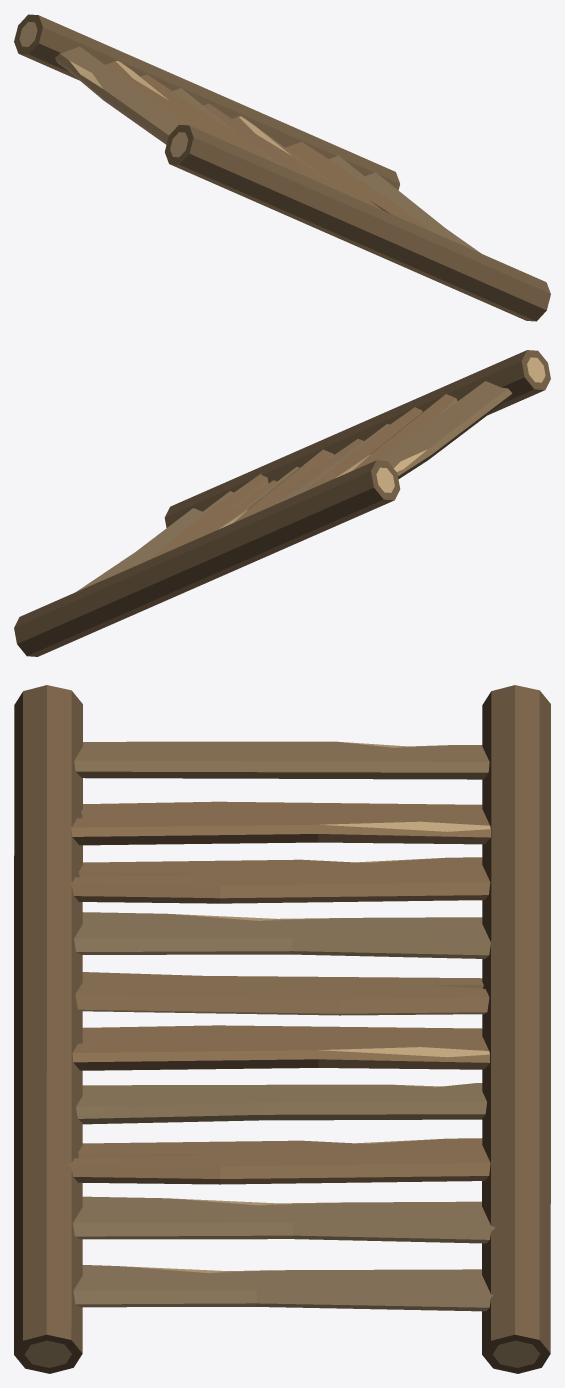
The model's file is rpgpp_ag_wall_platform_stairs_02a_2m.fbx.
The picture shows the model from 3 angles, top to bottom: view 1: azimuth 30°, elevation 25°; view 2: azimuth 150°, elevation 25°; view 3: azimuth 270°, elevation 25°; orthographic projection. The views are drawn at different scales.
Visible parts, largest first — view 1: rpgpp_ag_wall_platform_stairs_02a_2m; view 2: rpgpp_ag_wall_platform_stairs_02a_2m; view 3: rpgpp_ag_wall_platform_stairs_02a_2m.
Boxes of the visible parts, <box> form: rpgpp_ag_wall_platform_stairs_02a_2m: <box>14,14,550,321</box>; rpgpp_ag_wall_platform_stairs_02a_2m: <box>14,350,550,656</box>; rpgpp_ag_wall_platform_stairs_02a_2m: <box>14,685,550,1373</box>.
Bounding box in the file's own units: 3.17 × 2.24 × 2.52.
